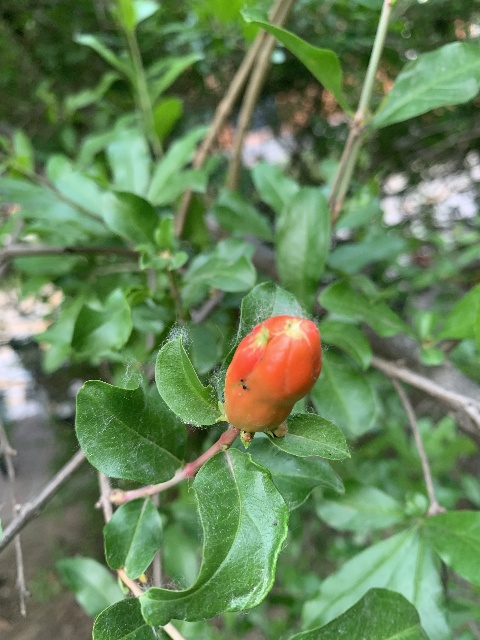bud: (224, 314, 322, 432)
